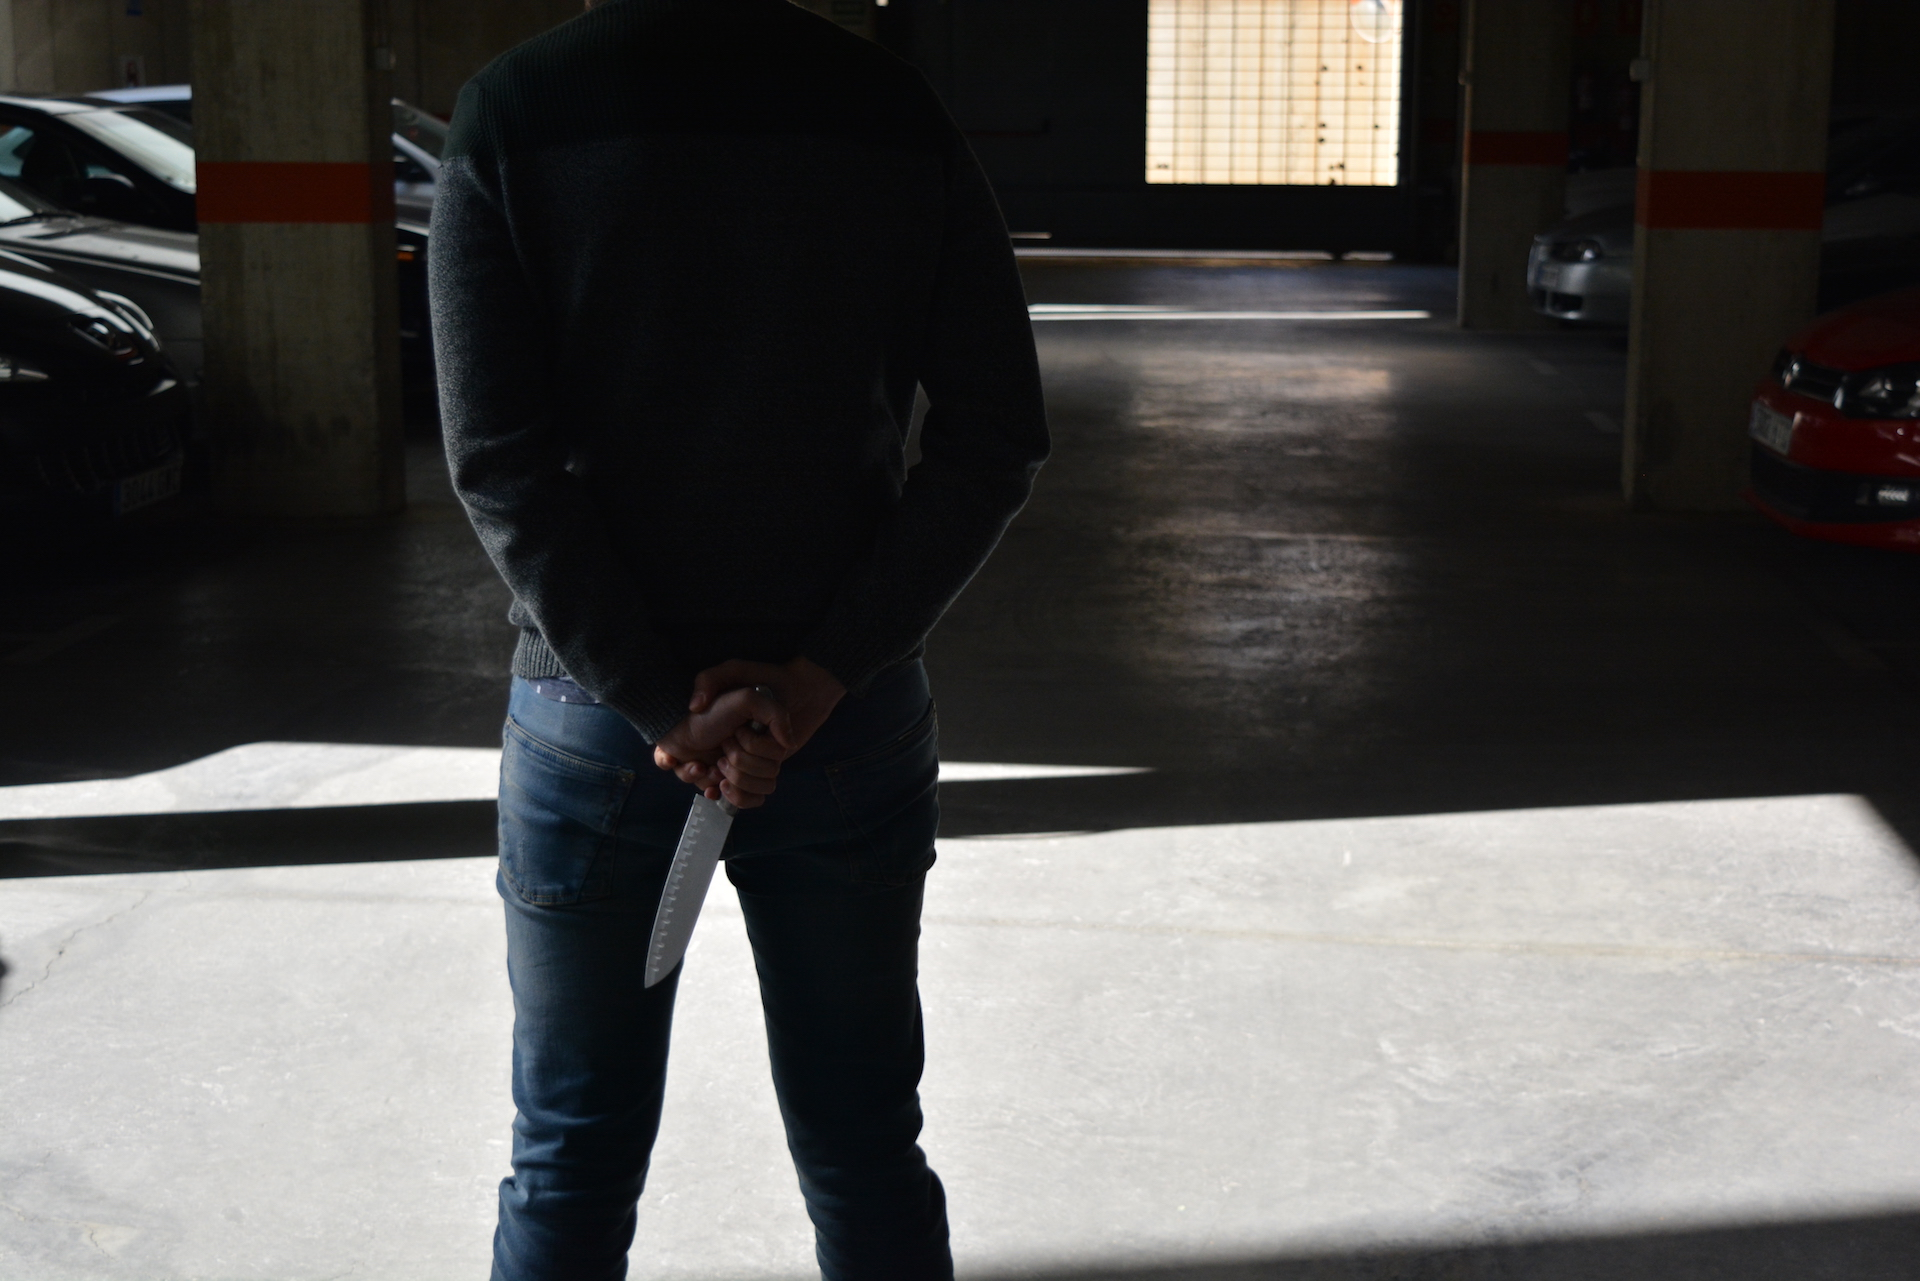knife: (638, 679, 771, 999)
